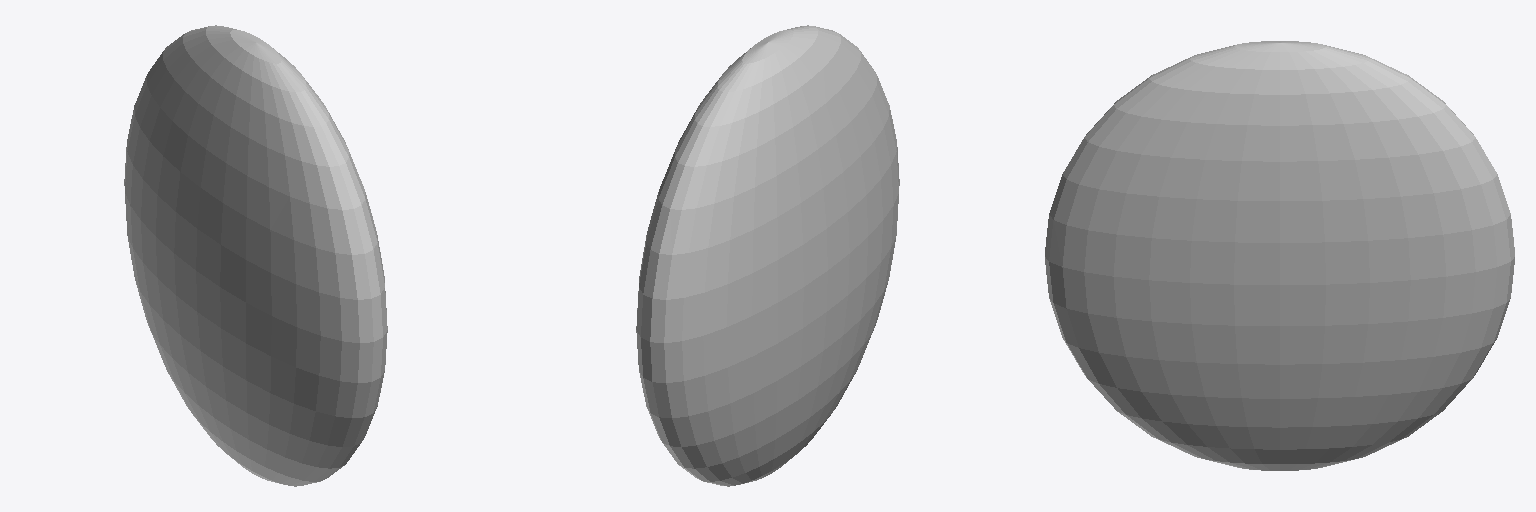
File: button1.obj
The picture shows the model from 3 angles: view 1: azimuth 30°, elevation 25°; view 2: azimuth 150°, elevation 25°; view 3: azimuth 270°, elevation 25°; orthographic projection.
Visible parts, largest first — view 1: Button1; view 2: Button1; view 3: Button1.
Boxes of the visible parts, <box> form: Button1: <box>124,25,387,486</box>; Button1: <box>636,25,899,486</box>; Button1: <box>1045,41,1514,470</box>.
Size of the model in its own units: 0.028 by 0.0953 by 0.0953.